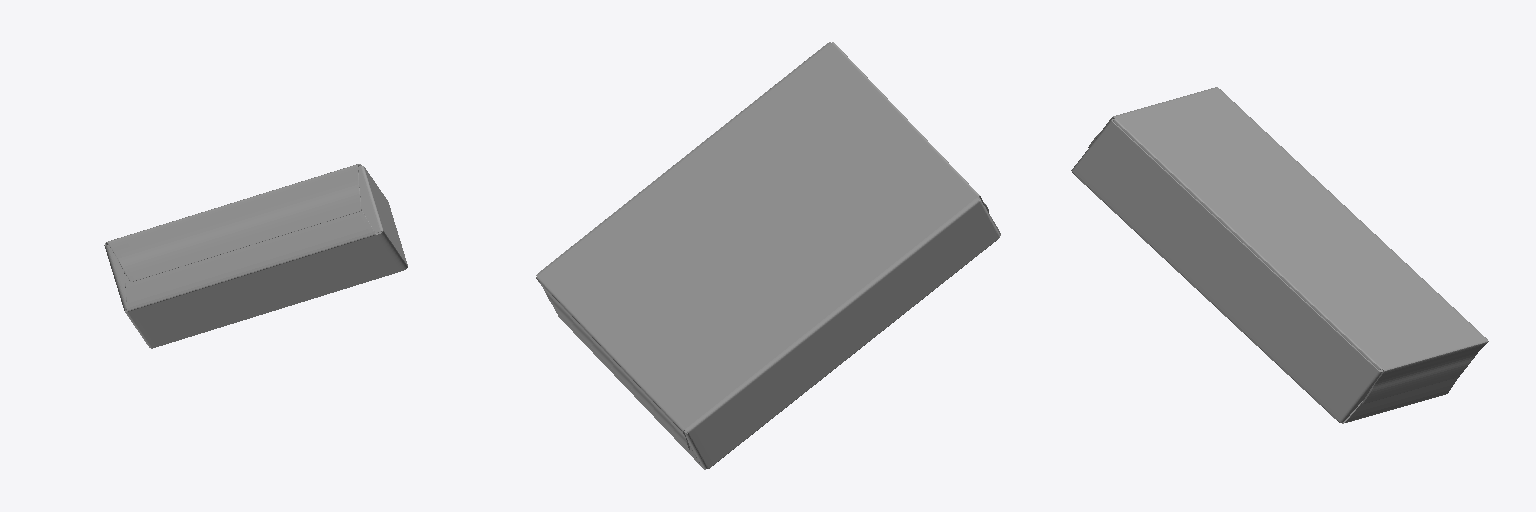
Rendered from cocacola_bottle_xyz.obj.
The picture shows the model from 3 angles: view 1: azimuth 30°, elevation 25°; view 2: azimuth 150°, elevation 25°; view 3: azimuth 270°, elevation 25°; orthographic projection.
Parts seen in each view (by area): view 1: Box_Box_Box_Box_of_cerealCOL_jpg; view 2: Box_Box_Box_Box_of_cerealCOL_jpg; view 3: Box_Box_Box_Box_of_cerealCOL_jpg.
Part boxes in pixels (bbox=[...]): Box_Box_Box_Box_of_cerealCOL_jpg: bbox=[104, 164, 407, 348]; Box_Box_Box_Box_of_cerealCOL_jpg: bbox=[536, 42, 1000, 469]; Box_Box_Box_Box_of_cerealCOL_jpg: bbox=[1071, 87, 1488, 423].
Size of the model in its own units: 0.2483 by 0.1936 by 0.2468.